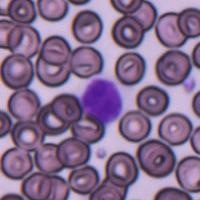L: (80, 74, 132, 125)
